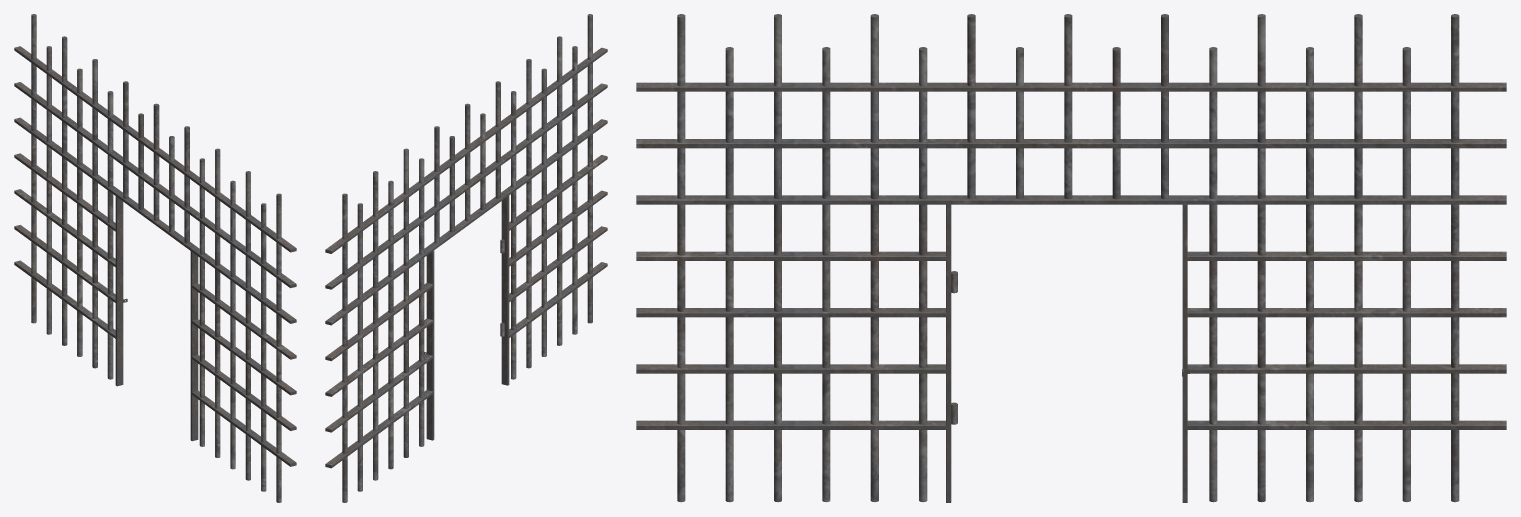
File: SM_Cell_Front.glb
3 renders of one model, left to right at view 1: azimuth 30°, elevation 25°; view 2: azimuth 150°, elevation 25°; view 3: azimuth 270°, elevation 25°, orthographic. The views are drawn at different scales.
Visible parts, largest first — view 1: SM_Cell_Front; view 2: SM_Cell_Front; view 3: SM_Cell_Front.
Part boxes in pixels (x1,y1,x2,y2): SM_Cell_Front: (14, 14, 296, 502); SM_Cell_Front: (325, 14, 607, 502); SM_Cell_Front: (636, 14, 1506, 502).
Size of the model in its own units: 0.1319 by 3.69 by 6.
Materials: 1 (1 with a texture image).
